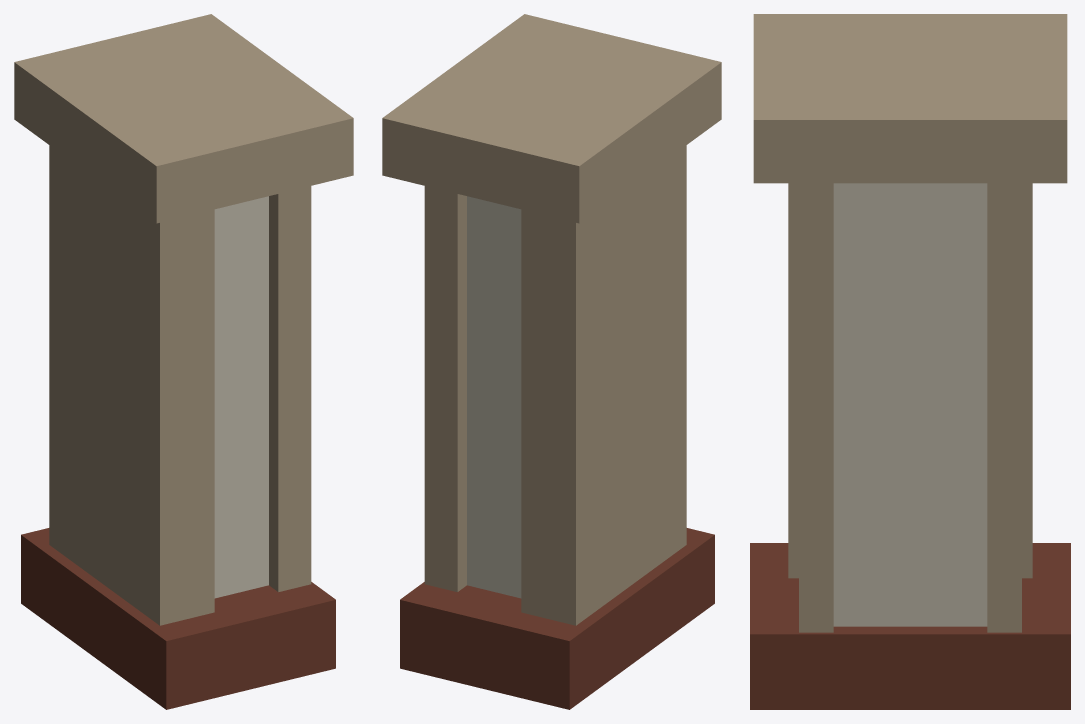
File: Respond__Wall.fbx
3 renders of one model, left to right at view 1: azimuth 30°, elevation 25°; view 2: azimuth 150°, elevation 25°; view 3: azimuth 270°, elevation 25°, orthographic. The views are drawn at different scales.
Parts seen in each view (by area): view 1: Respond__Wall; view 2: Respond__Wall; view 3: Respond__Wall.
Boxes of the visible parts, bbox=[...] form: Respond__Wall: bbox=[14, 14, 353, 709]; Respond__Wall: bbox=[382, 14, 721, 709]; Respond__Wall: bbox=[750, 14, 1070, 709].
Bounding box in the file's own units: 72 × 190 × 92.
1 material, 1 textured.
